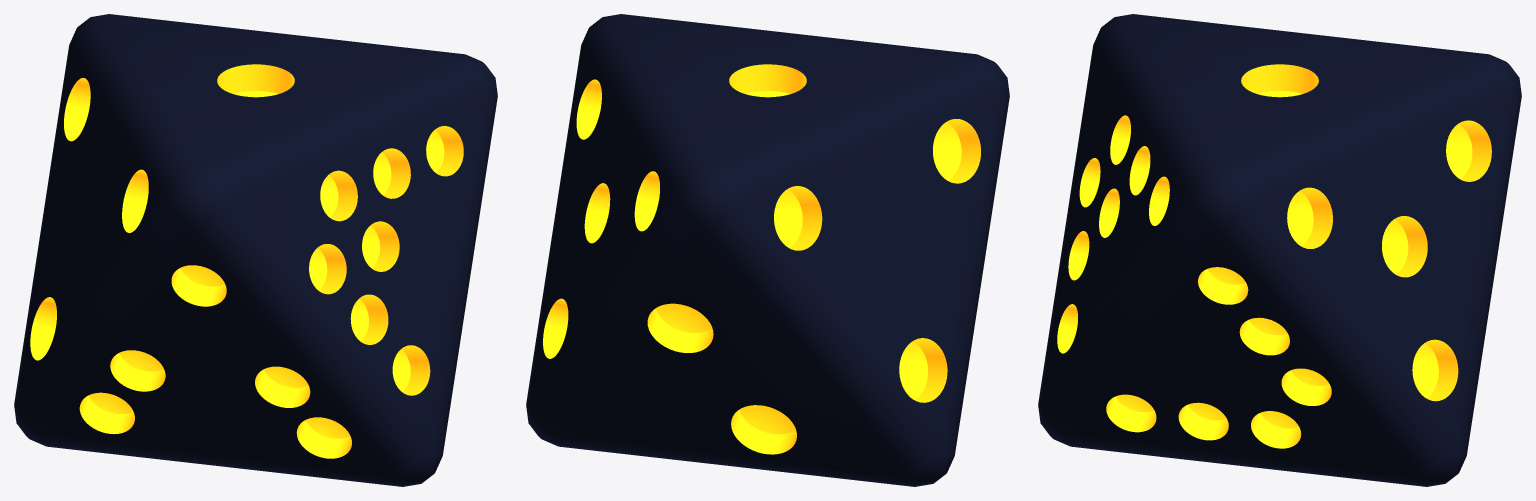
The picture shows the model from 3 angles, left to right: view 1: azimuth 30°, elevation 25°; view 2: azimuth 150°, elevation 25°; view 3: azimuth 270°, elevation 25°; orthographic projection.
Parts seen in each view (by area): view 1: MP_D8; view 2: MP_D8; view 3: MP_D8.
Boxes of the visible parts, x1=… form: MP_D8: x1=14, y1=14, x2=497, y2=486; MP_D8: x1=526, y1=14, x2=1009, y2=486; MP_D8: x1=1038, y1=14, x2=1521, y2=486.
Bounding box in the file's own units: 1 × 0.7741 × 1.
